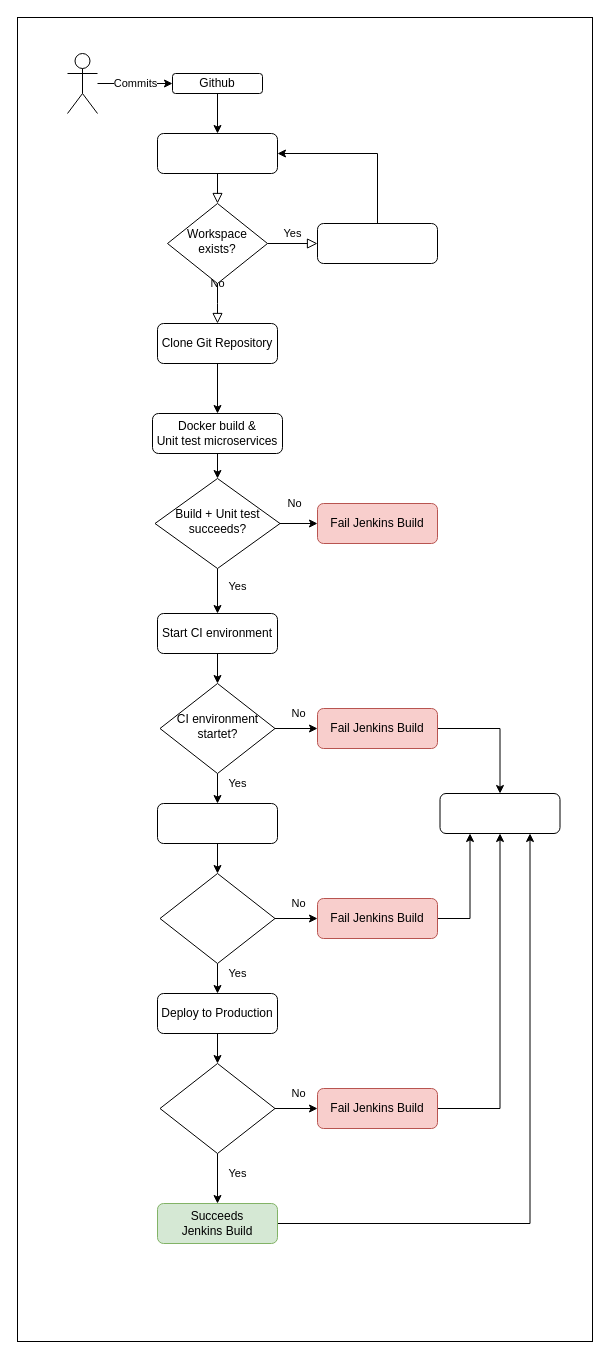
Image size: 610x1359. Some labels were removed from this diagram. Here are the shapes that lost their labels. From the top down, the centre of each, then its label:
(82,83): Developer
(217,153): Jenkins Build Starts
(377,243): Recreate workspace
(217,823): Start CI test
(499,813): Remove CI environment
(217,918): CI test succeeds?
(217,1108): Deploy succeeds?
